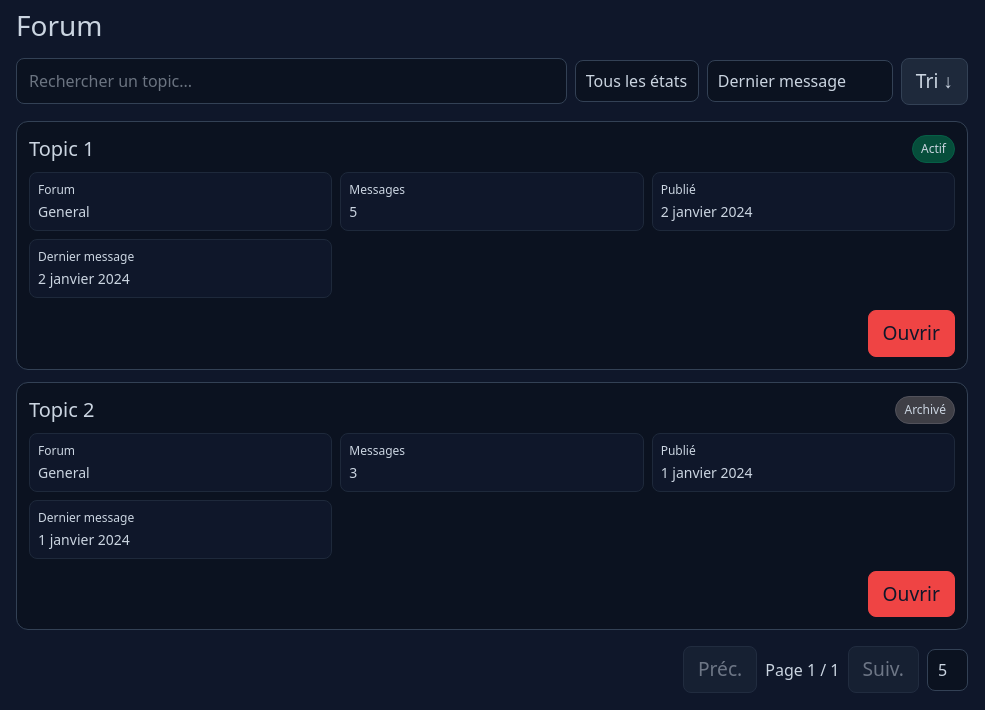
Test: ForumPage › shows empty state when no results
Type "Nonexistent Topic" into the field with placeholder "Rechercher un topic..." at [291, 81], box [16,58,567,104]
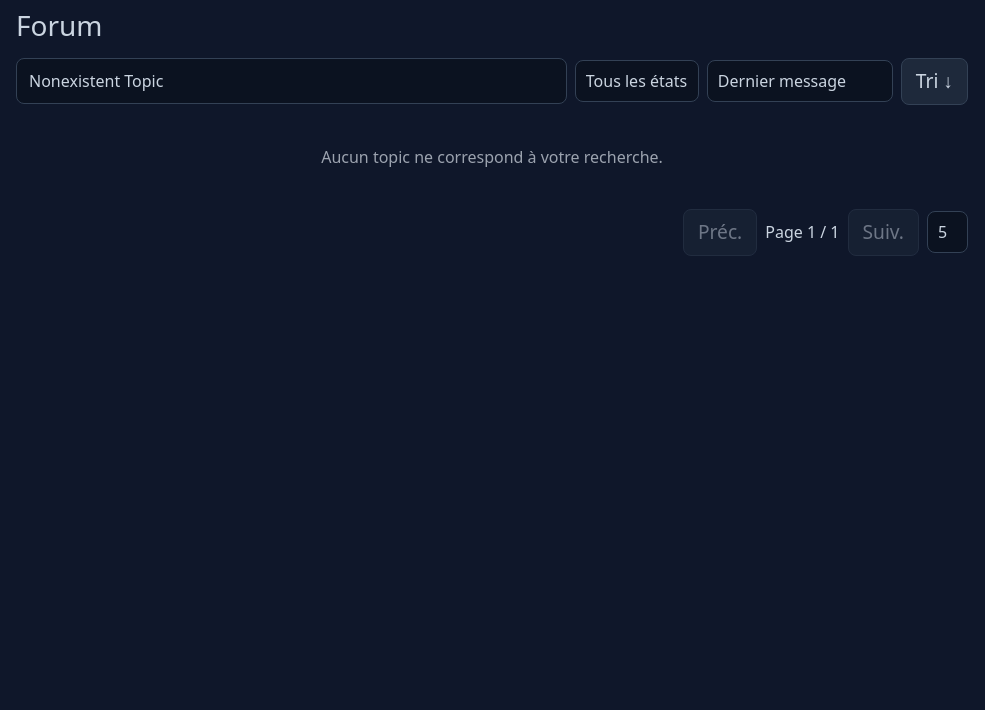
Now the text "Aucun topic ne correspond à votre recherche." is shown, box [321,146,663,168]
